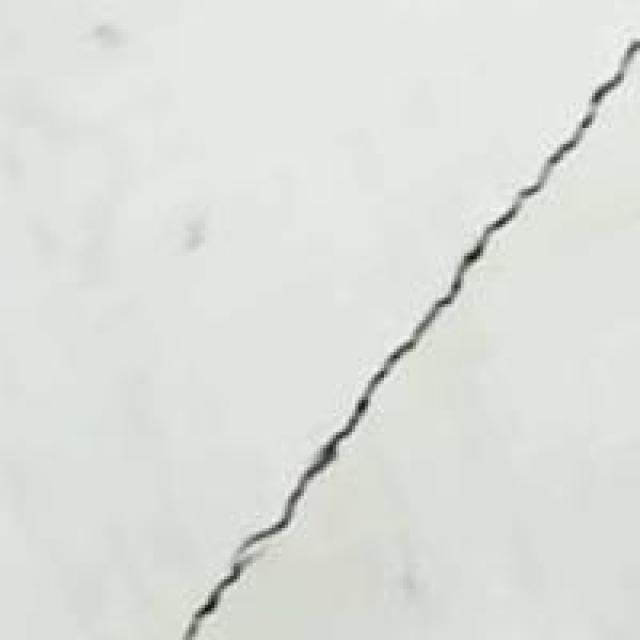Crack: (176, 26, 637, 636)
